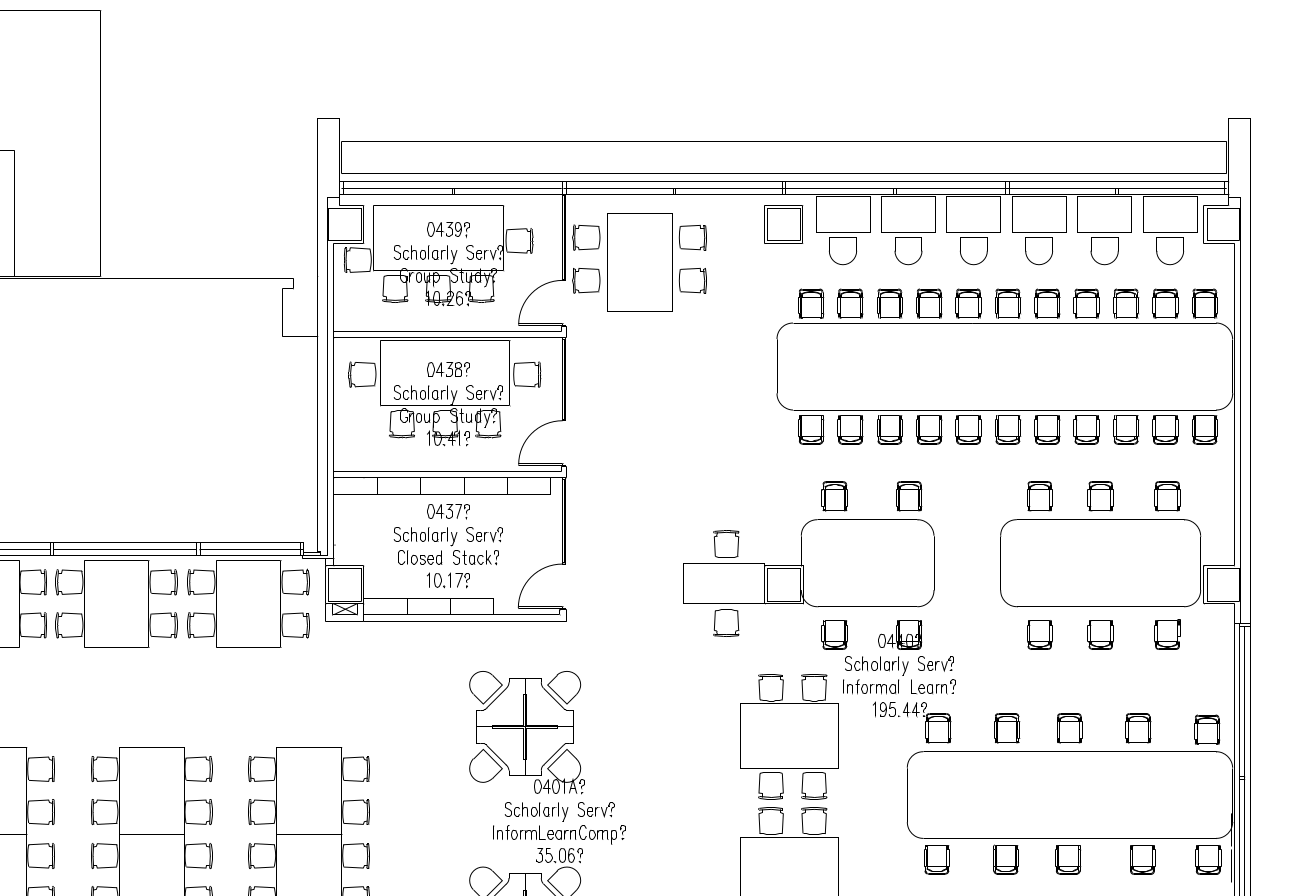door: (505, 558, 572, 611), (509, 415, 576, 468), (511, 275, 569, 330)
